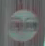No overtake: (6, 5, 43, 45)
